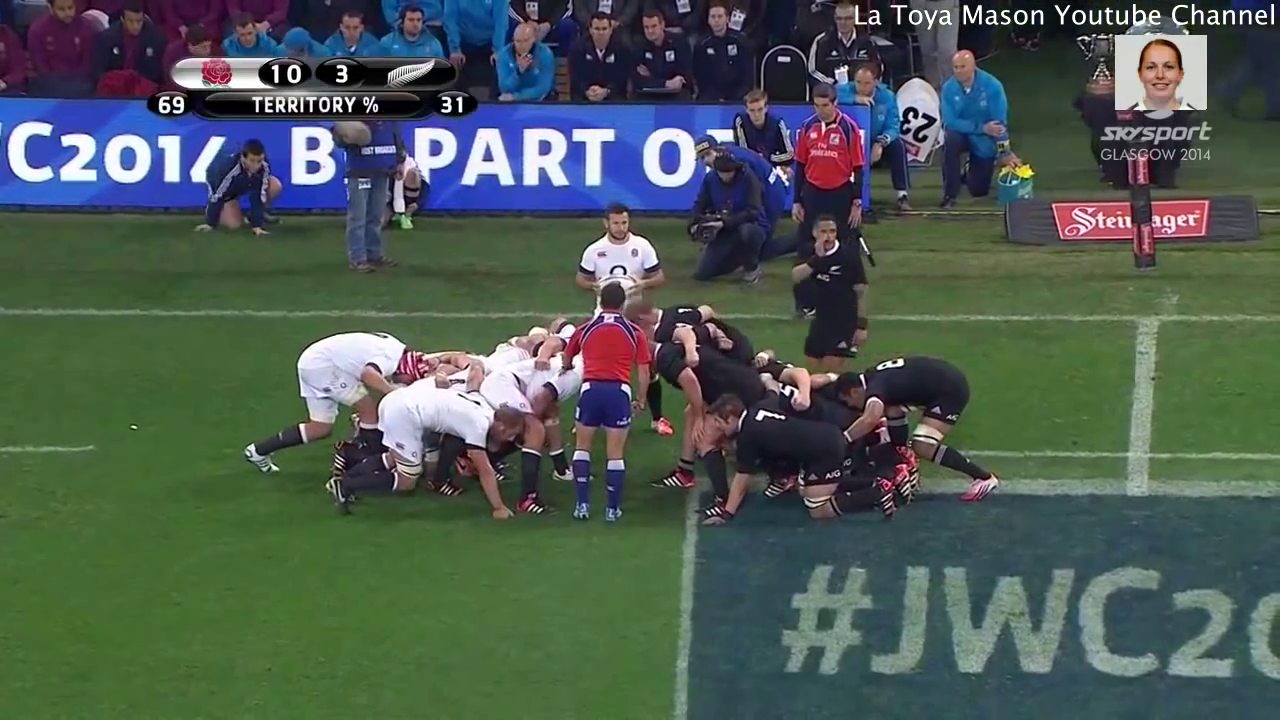ball: (588, 264, 642, 300)
player: (237, 327, 429, 481), (330, 375, 521, 527), (619, 332, 766, 516), (833, 347, 1003, 503), (698, 392, 903, 520), (561, 274, 657, 530), (786, 82, 865, 257), (794, 216, 871, 370), (575, 201, 656, 313)
scrum: (248, 279, 1005, 516)
